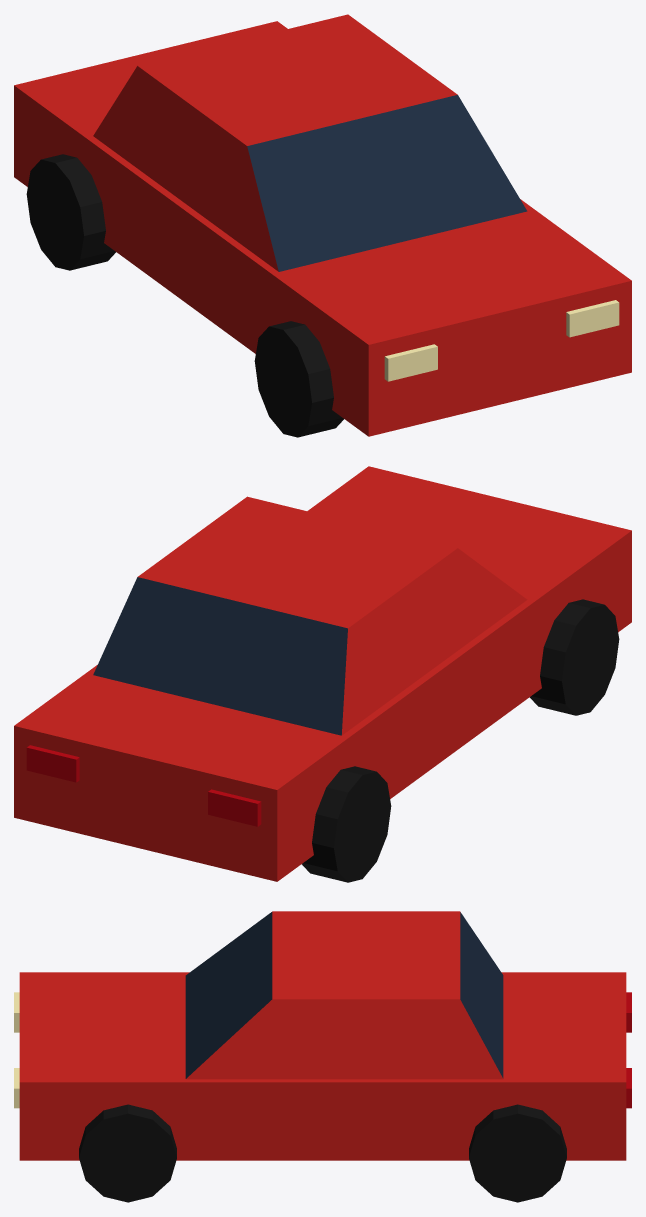
Rendered from car.obj.
The picture shows the model from 3 angles, top to bottom: view 1: azimuth 30°, elevation 25°; view 2: azimuth 150°, elevation 25°; view 3: azimuth 270°, elevation 25°; orthographic projection. The views are drawn at different scales.
Bounding box in the file's own units: 2.1 × 1.4 × 4.28.
